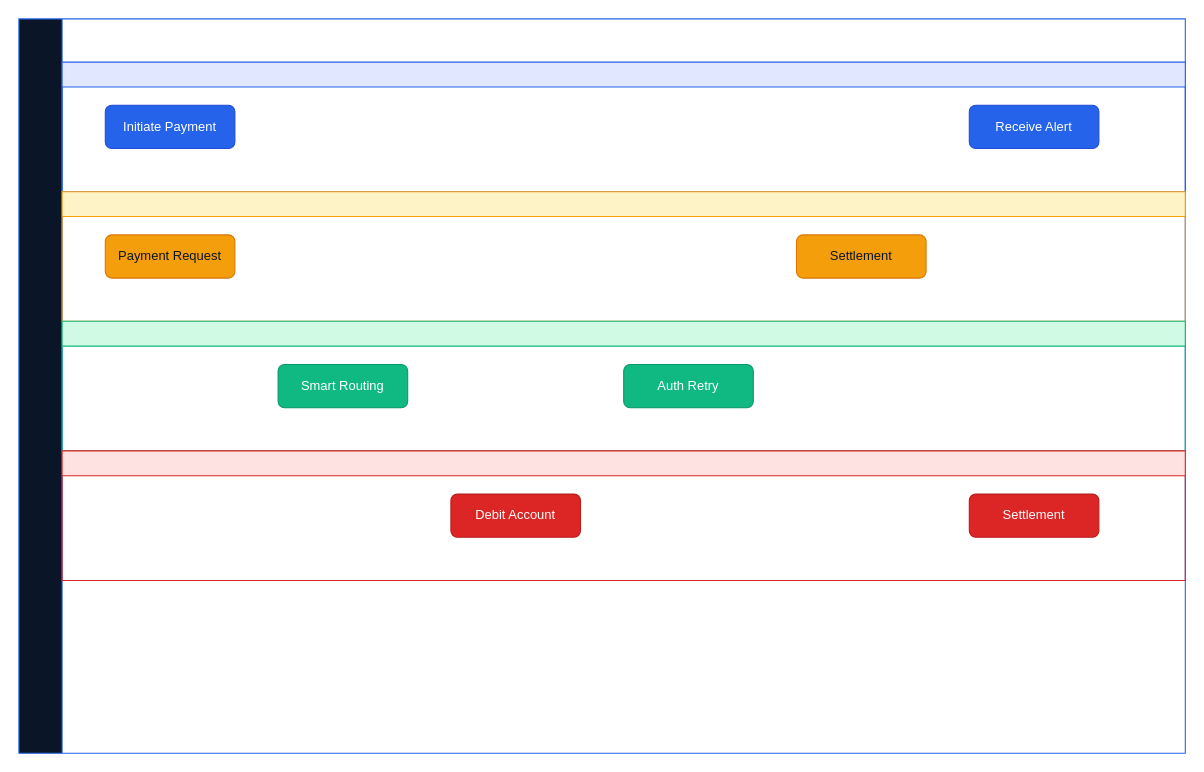
This 1204x772 diagram has some shape labels left out. The shapes that lost their labels are listed below. From the top down, each one's box as (x1, y1, x2, y2) in pixels, then its label:
(61, 61, 1185, 192): 👤 Customer
(61, 191, 1185, 321): 🏪 Merchant
(61, 320, 1185, 451): 💻 Payment Gateway
(61, 450, 1185, 580): 🏦 Bank / NPCI
